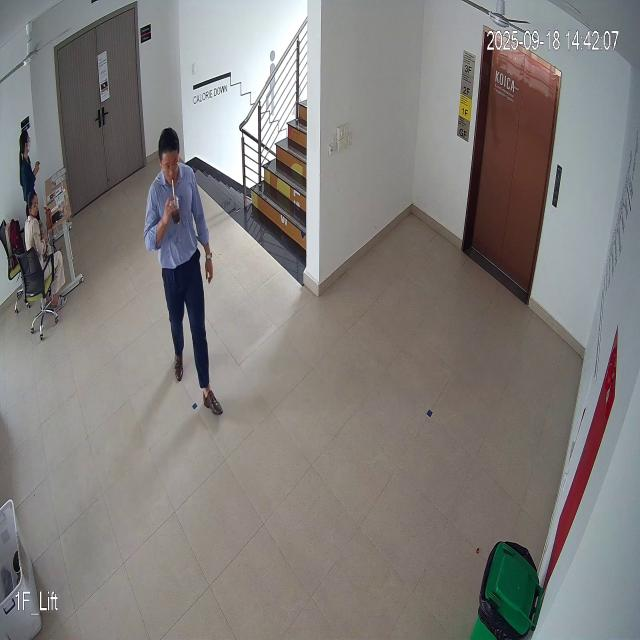face: (157, 123, 184, 192)
